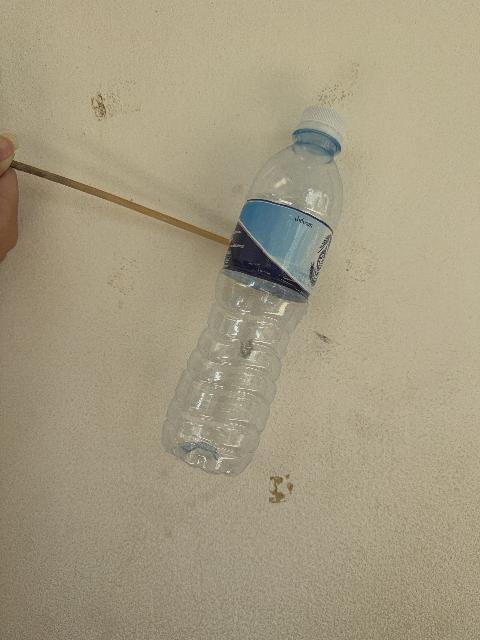bottle: (163, 106, 346, 476)
